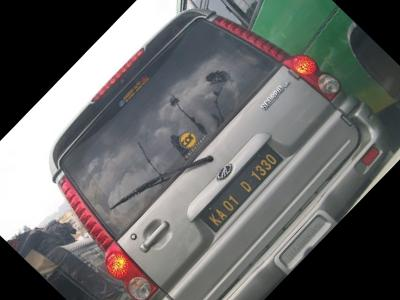plate: (173, 126, 297, 252)
